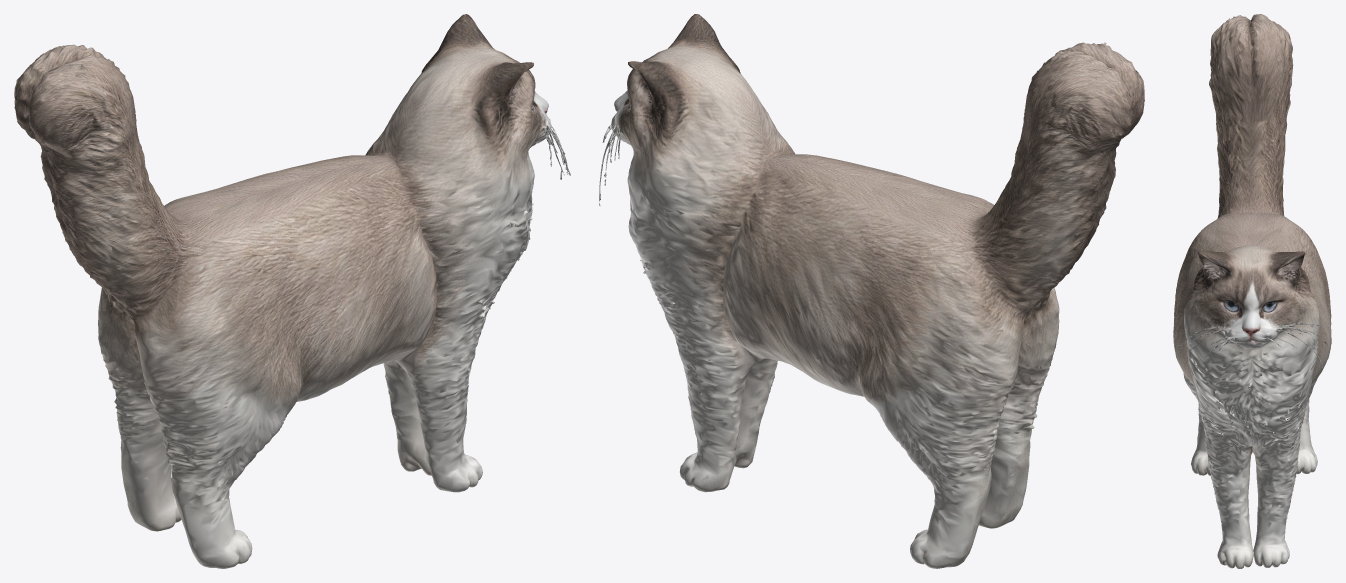
Rendered from PUFFCHEF.glb.
The picture shows the model from 3 angles, left to right: view 1: azimuth 30°, elevation 25°; view 2: azimuth 150°, elevation 25°; view 3: azimuth 270°, elevation 25°; orthographic projection. The views are drawn at different scales.
Parts seen in each view (by area): view 1: tripo_node_fb11b954-1e77-4e29-acb1-0d4d2425b623; view 2: tripo_node_fb11b954-1e77-4e29-acb1-0d4d2425b623; view 3: tripo_node_fb11b954-1e77-4e29-acb1-0d4d2425b623.
Boxes of the visible parts, x1,y1,x2,y2 form: tripo_node_fb11b954-1e77-4e29-acb1-0d4d2425b623: (14,14,570,568); tripo_node_fb11b954-1e77-4e29-acb1-0d4d2425b623: (599,14,1144,568); tripo_node_fb11b954-1e77-4e29-acb1-0d4d2425b623: (1173,14,1331,568).
Size of the model in its own units: 1.05 by 0.9998 by 0.3531.
Materials: 1 (1 with a texture image).
